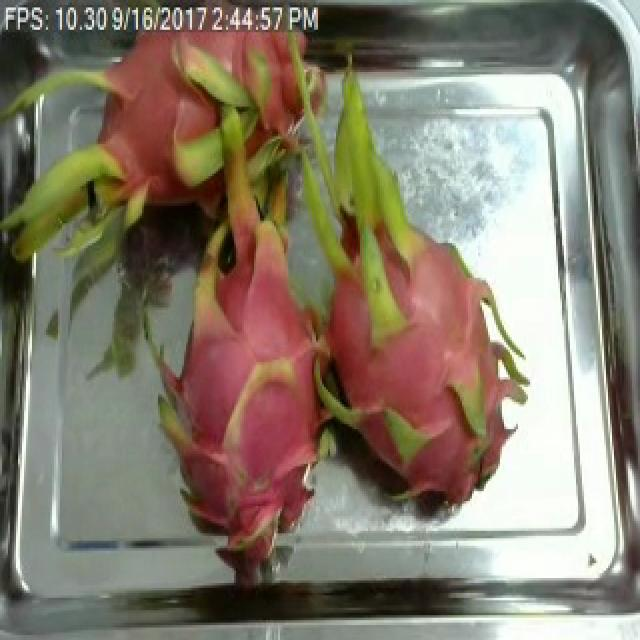Fruit: (76, 12, 248, 236)
